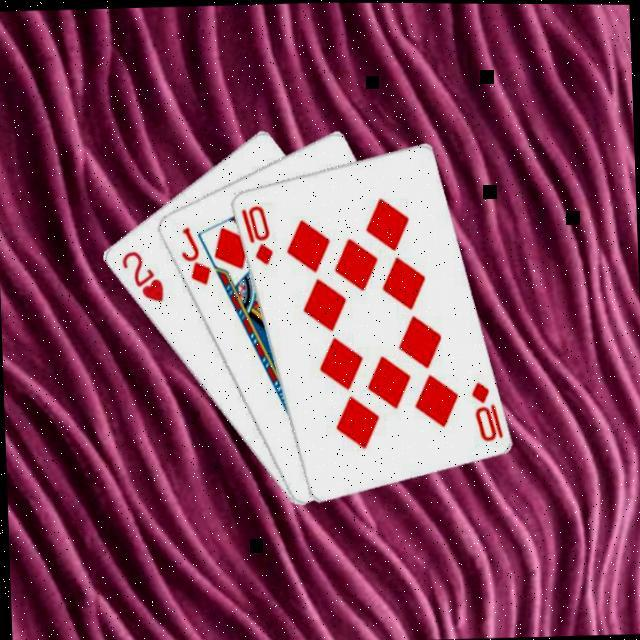10D: (238, 199, 276, 266), (468, 375, 506, 442)
2H: (118, 245, 168, 305)
JD: (177, 222, 215, 287)
